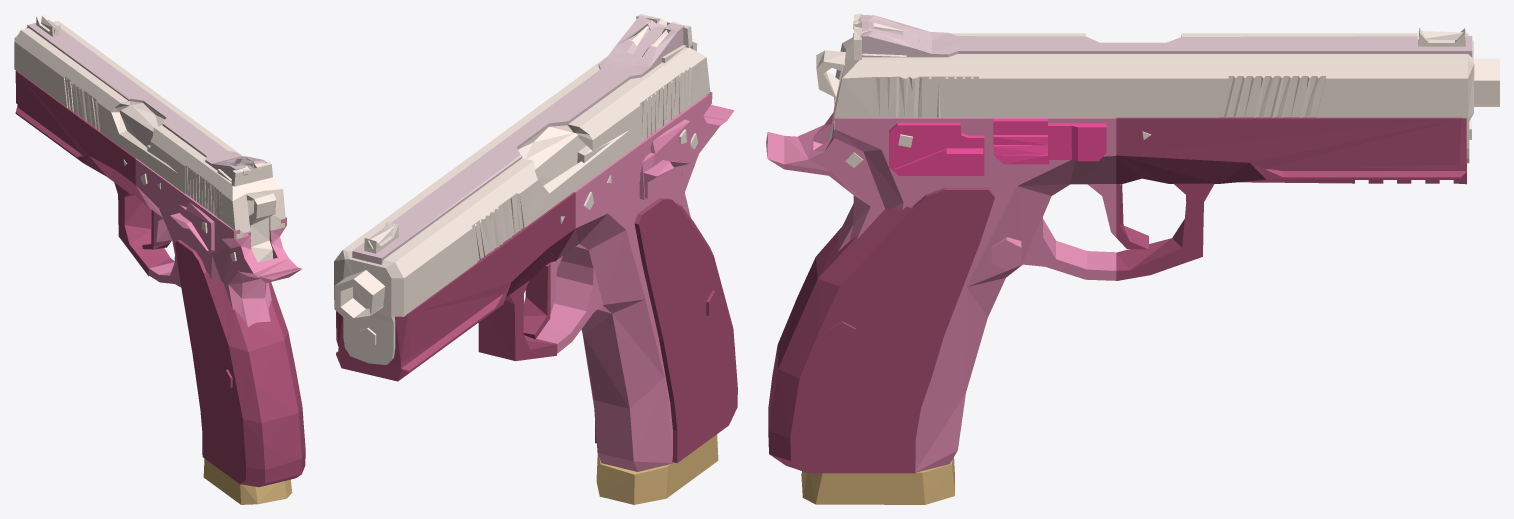
Rendered from Pistol_CZ75.obj.
3 views of the same model, side by side, from view 1: azimuth 30°, elevation 25°; view 2: azimuth 150°, elevation 25°; view 3: azimuth 270°, elevation 25° (orthographic). The views are drawn at different scales.
Visible parts, largest first — view 1: Grip, Panel, Body, Mag, Slide, Hardware; view 2: Panel, Body, Grip, Mag, Slide, Hardware; view 3: Panel, Grip, Body, Mag, Slide, Accent, Hardware.
Part boxes in pixels (x1,y1,x2,y2): Grip: (174,240,305,487); Panel: (14,14,285,262); Body: (135,158,301,326); Mag: (15,70,174,276); Slide: (27,19,266,178); Hardware: (203,458,292,504); Panel: (334,14,710,364); Body: (524,92,734,471); Grip: (595,198,737,463); Mag: (336,192,575,381); Slide: (352,15,684,264); Hardware: (596,434,718,504); Panel: (816,14,1499,167); Grip: (768,187,994,473); Body: (766,99,1116,472); Mag: (1116,117,1466,280); Slide: (860,14,1472,57); Accent: (889,118,1106,175); Hardware: (801,457,954,504).
Bounding box in the file's own units: 0.26 × 1.04 × 1.5.
